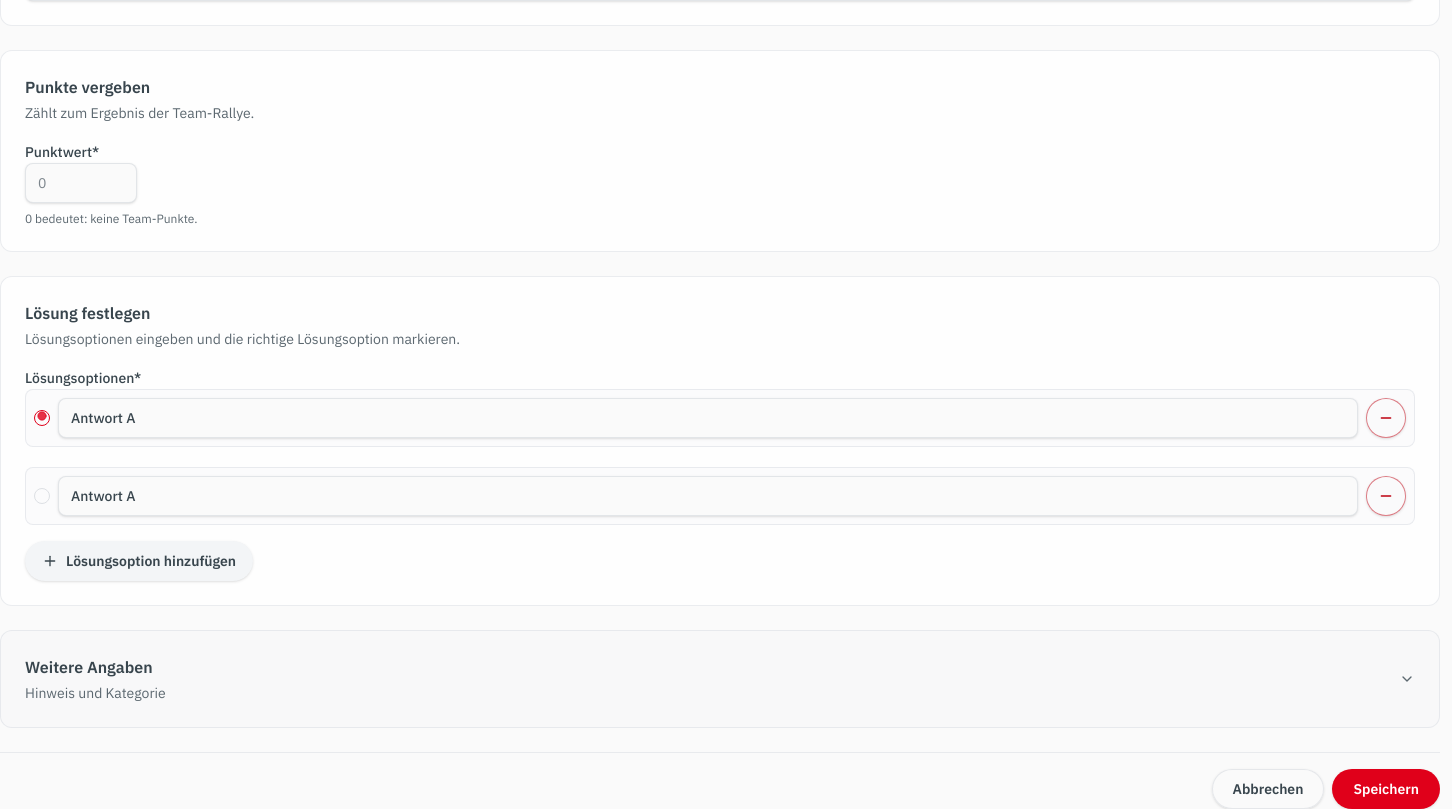
Test case: QuestionForm › requires unique answers for multiple choice
(page scrolled)
Click the button "Speichern": (1386, 789) [1332,769,1440,808]
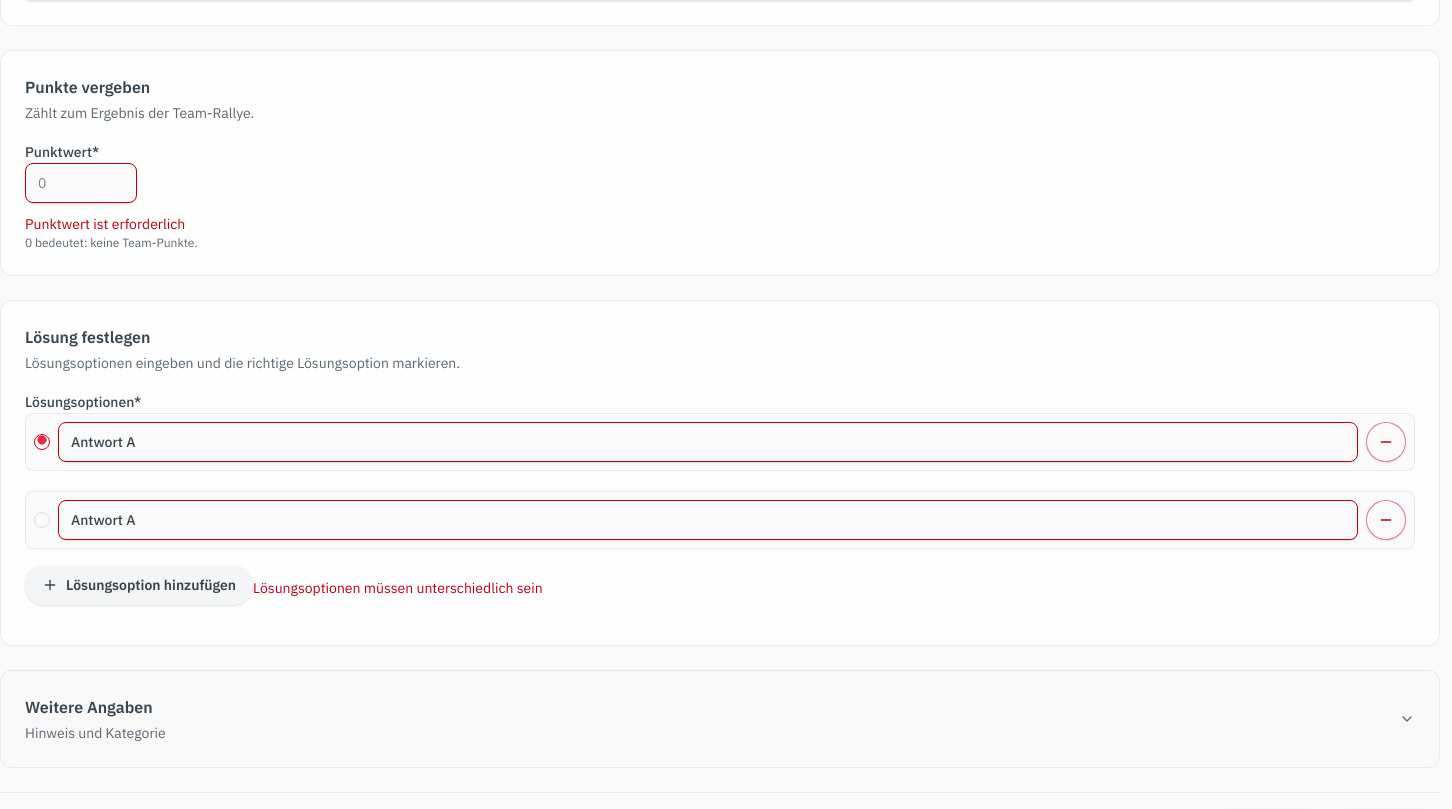
Expected: the text "Lösungsoptionen müssen unterschiedlich sein" is shown, [253,579,543,597]
